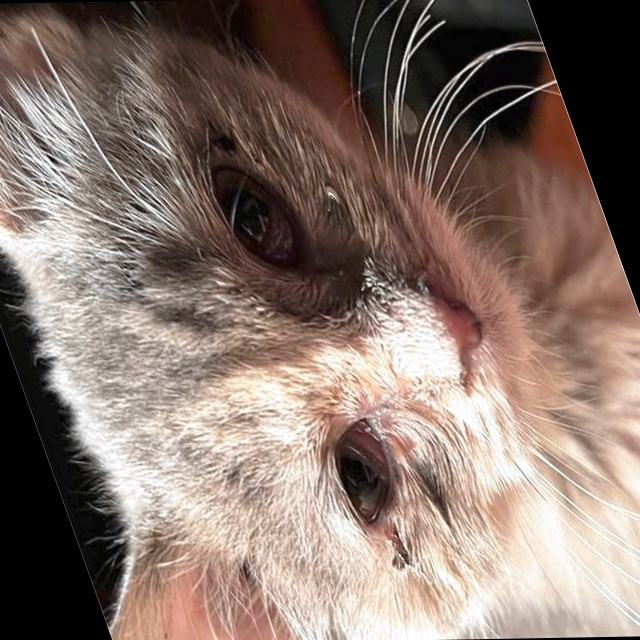eye_infection: (322, 418, 413, 516), (208, 171, 302, 259)
